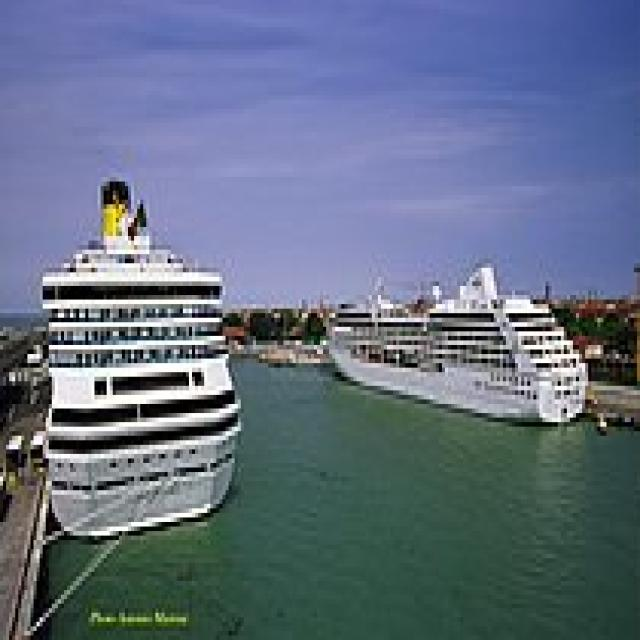Cruise: (34, 168, 240, 536), (317, 254, 588, 427)
